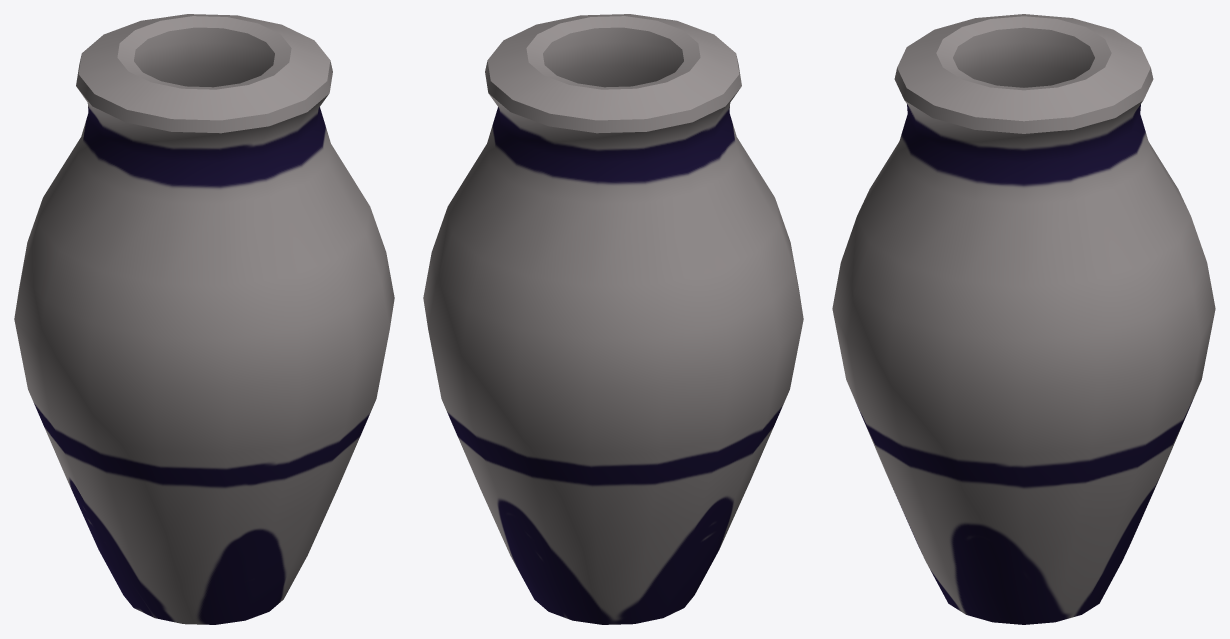
File: GKumbo.fbx
The picture shows the model from 3 angles, left to right: view 1: azimuth 30°, elevation 25°; view 2: azimuth 150°, elevation 25°; view 3: azimuth 270°, elevation 25°; orthographic projection.
Visible parts, largest first — view 1: Cylinder; view 2: Cylinder; view 3: Cylinder.
Boxes of the visible parts, x1,y1,x2,y2 form: Cylinder: (14,14,394,624); Cylinder: (423,14,803,624); Cylinder: (832,14,1215,624).
Size of the model in its own units: 294 by 455 by 294.
